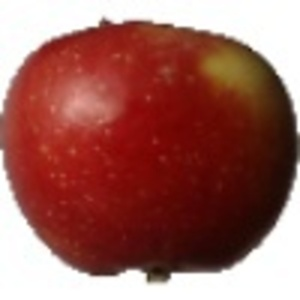maçã braeburn: (1, 17, 299, 278)
